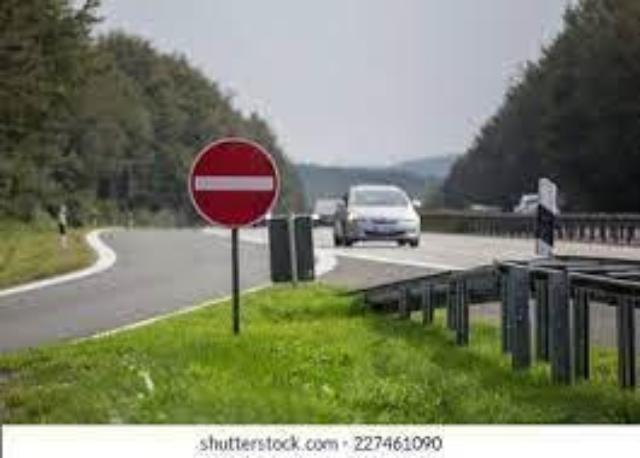B2: (184, 133, 282, 229)
